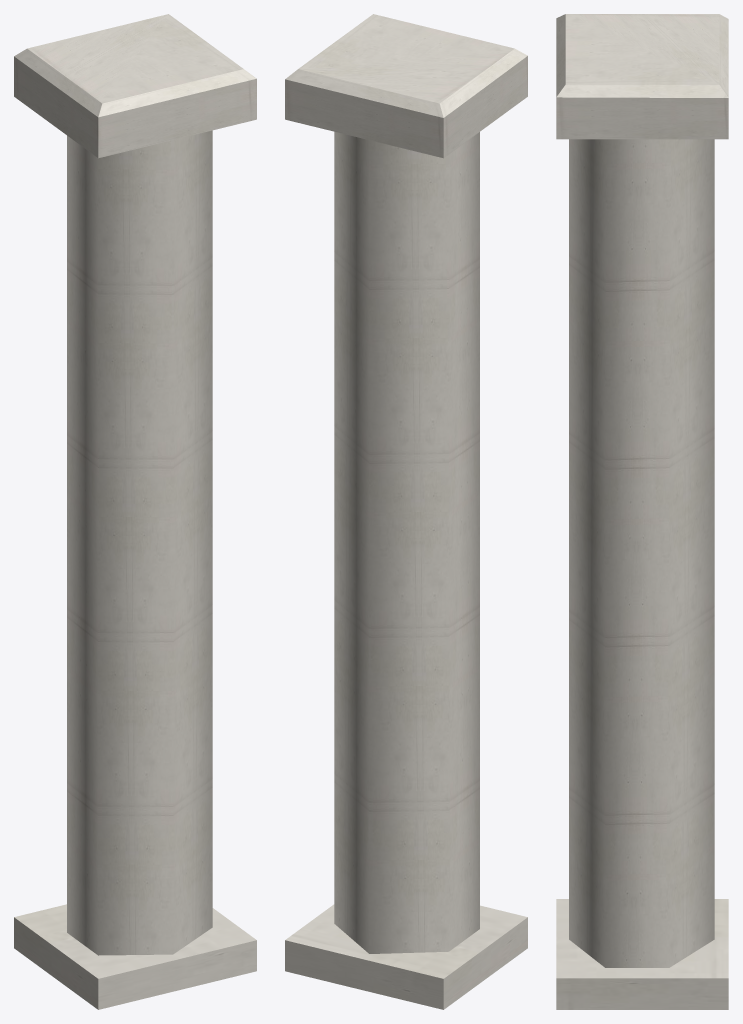
The model's file is column.glb.
3 renders of one model, left to right at view 1: azimuth 30°, elevation 25°; view 2: azimuth 150°, elevation 25°; view 3: azimuth 270°, elevation 25°, orthographic. The views are drawn at different scales.
Parts seen in each view (by area): view 1: column, corinthian, plinth; view 2: column, corinthian, plinth; view 3: column, corinthian, plinth.
Part boxes in pixels (bbox=[...]): column: bbox=[67, 130, 212, 955]; corinthian: bbox=[14, 14, 256, 158]; plinth: bbox=[14, 904, 256, 1009]; column: bbox=[334, 131, 479, 953]; corinthian: bbox=[285, 14, 527, 158]; plinth: bbox=[285, 904, 527, 1009]; column: bbox=[569, 139, 714, 967]; corinthian: bbox=[556, 14, 728, 139]; plinth: bbox=[556, 899, 728, 1009].
Bounding box in the file's own units: 0.102 × 0.5536 × 0.0939.
Materials: 1 (1 with a texture image).
